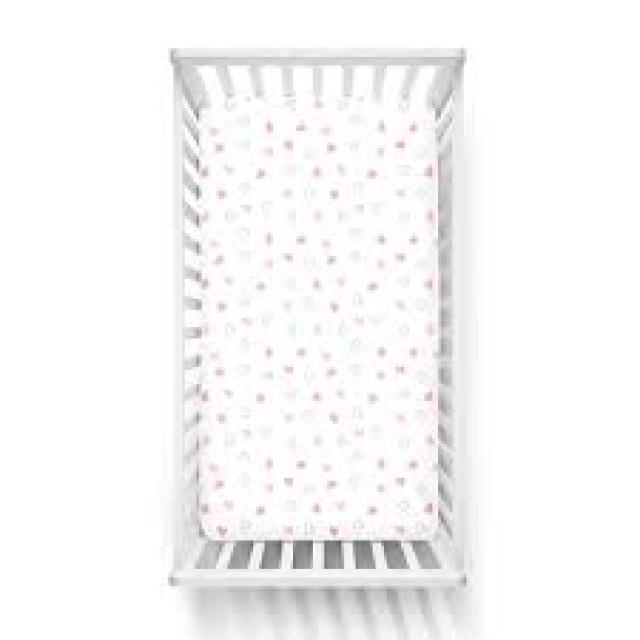crib: (165, 42, 469, 592)
